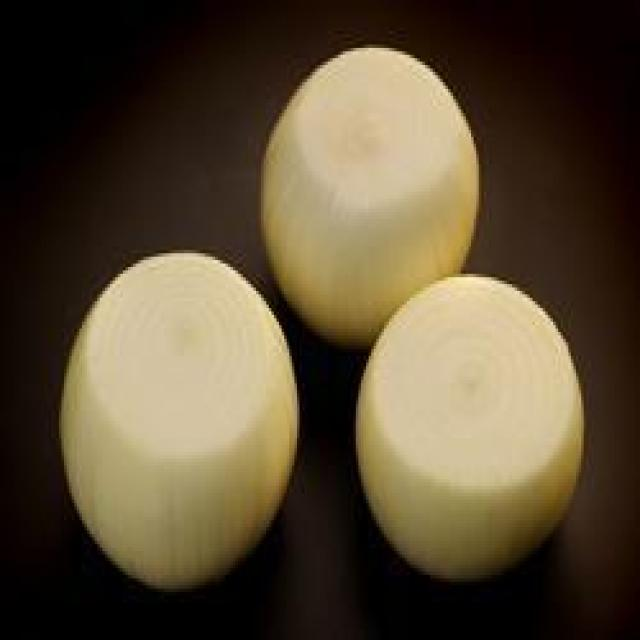Onion: (59, 254, 302, 596), (353, 270, 581, 582), (259, 48, 481, 342)
